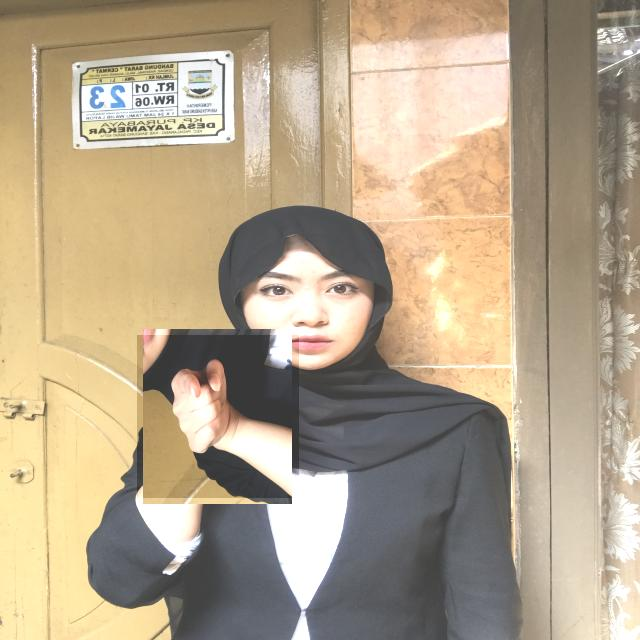kamu: (137, 335, 299, 498)
